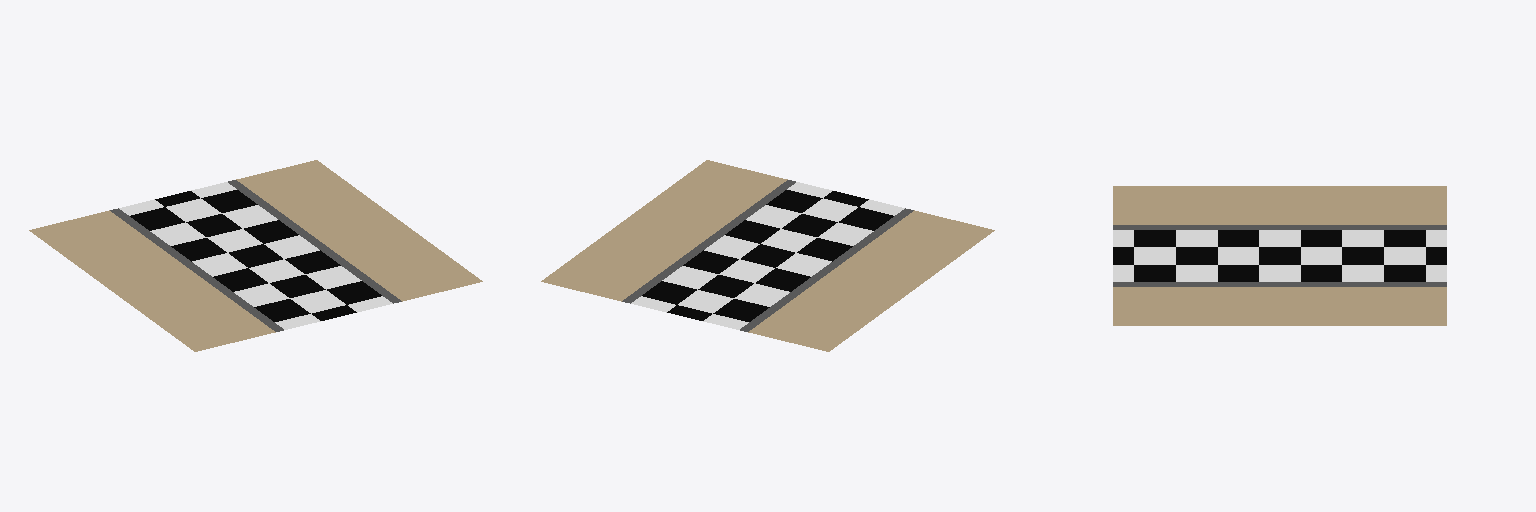
File: Prop_Track_Finish_Line_Center_1x1.obj
3 renders of one model, left to right at view 1: azimuth 30°, elevation 25°; view 2: azimuth 150°, elevation 25°; view 3: azimuth 270°, elevation 25°, orthographic.
Visible parts, largest first — view 1: object1; view 2: object1; view 3: object1.
Part boxes in pixels (bbox=[...]): object1: bbox=[29, 160, 482, 351]; object1: bbox=[541, 160, 994, 351]; object1: bbox=[1113, 186, 1446, 325].
Bounding box in the file's own units: 1 × 0 × 1.